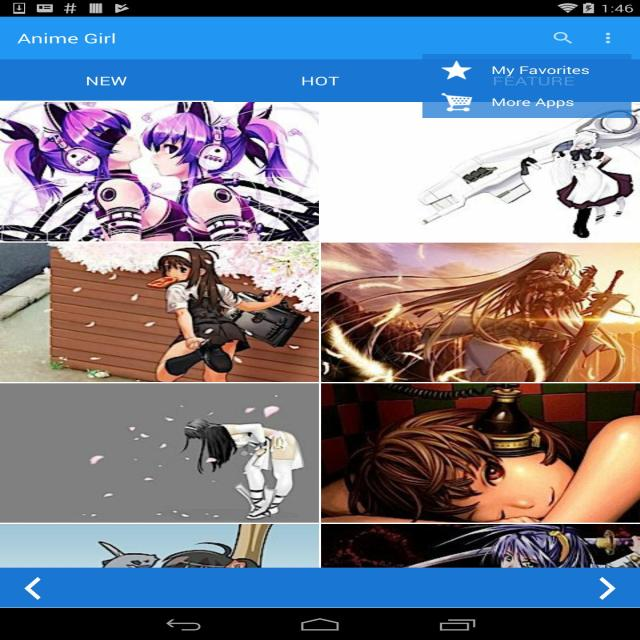button: (3, 101, 639, 569), (215, 61, 418, 105), (1, 61, 211, 101), (424, 87, 629, 118), (422, 55, 624, 83), (4, 572, 58, 600), (594, 573, 630, 612), (549, 27, 581, 51), (594, 24, 623, 50)
heading: (13, 30, 120, 49)
